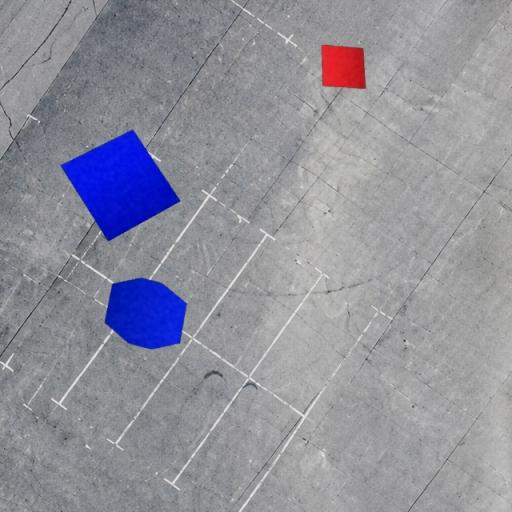BLUE_SQUARE: (60, 128, 181, 242)
RED_SQUARE: (321, 44, 366, 90)
